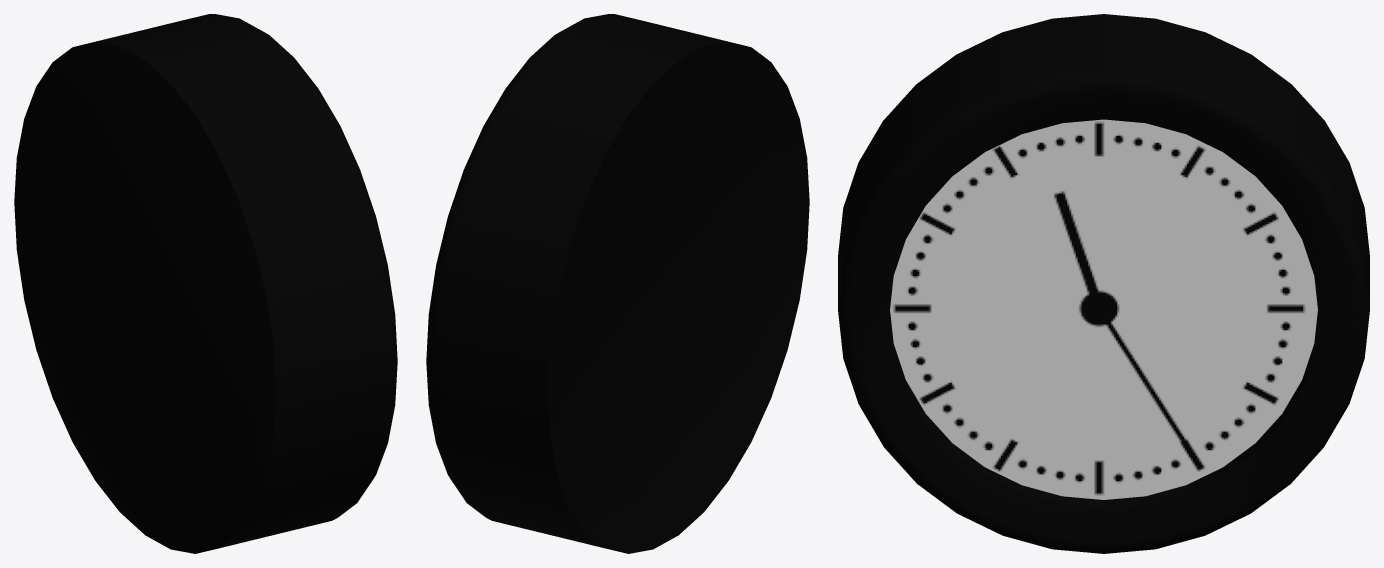
Rendered from clock.glb.
3 renders of one model, left to right at view 1: azimuth 30°, elevation 25°; view 2: azimuth 150°, elevation 25°; view 3: azimuth 270°, elevation 25°, orthographic.
Parts seen in each view (by area): view 1: Cylinder; view 2: Cylinder; view 3: Cylinder.
Part boxes in pixels (<box>): Cylinder: <box>14,14,397,553</box>; Cylinder: <box>426,14,809,553</box>; Cylinder: <box>838,14,1369,553</box>.
Bounding box in the file's own units: 0.6899 × 2.48 × 2.48.
2 materials, 1 textured.
